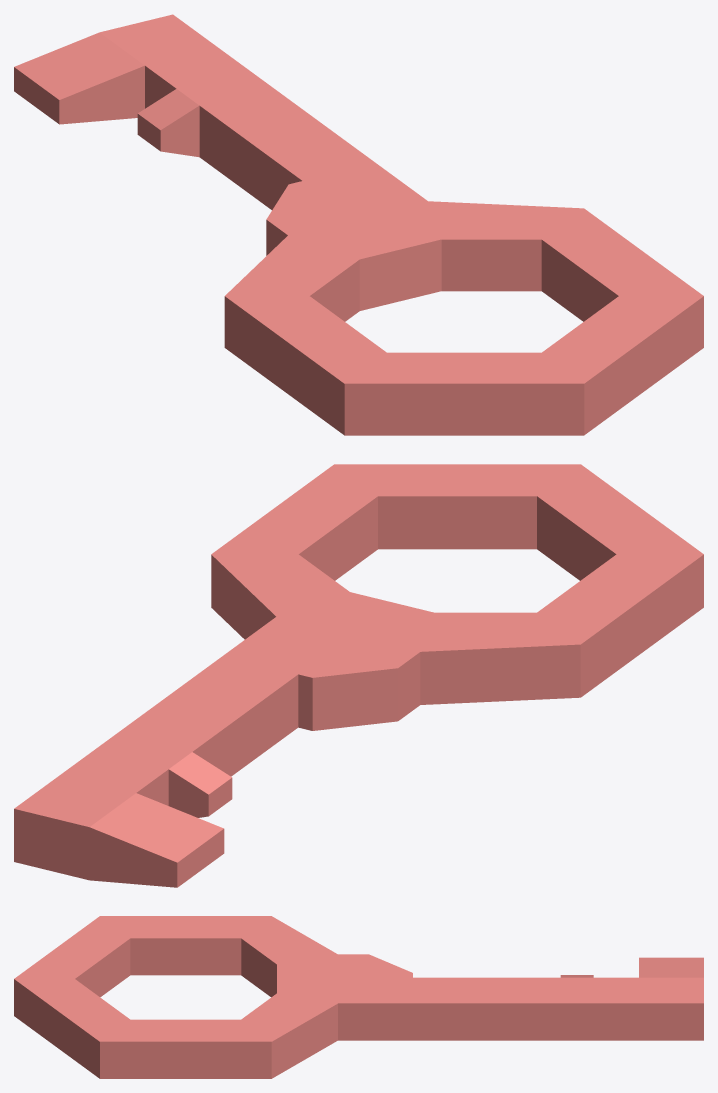
File: Anahtar.fbx
3 renders of one model, top to bottom at view 1: azimuth 30°, elevation 25°; view 2: azimuth 150°, elevation 25°; view 3: azimuth 270°, elevation 25°, orthographic. The views are drawn at different scales.
Parts seen in each view (by area): view 1: Circle; view 2: Circle; view 3: Circle.
Boxes of the visible parts, x1,y1,x2,y2 form: Circle: (14, 14, 703, 435); Circle: (14, 464, 703, 887); Circle: (14, 916, 703, 1078).
Size of the model in its own units: 70.19 by 9.65 by 163.
